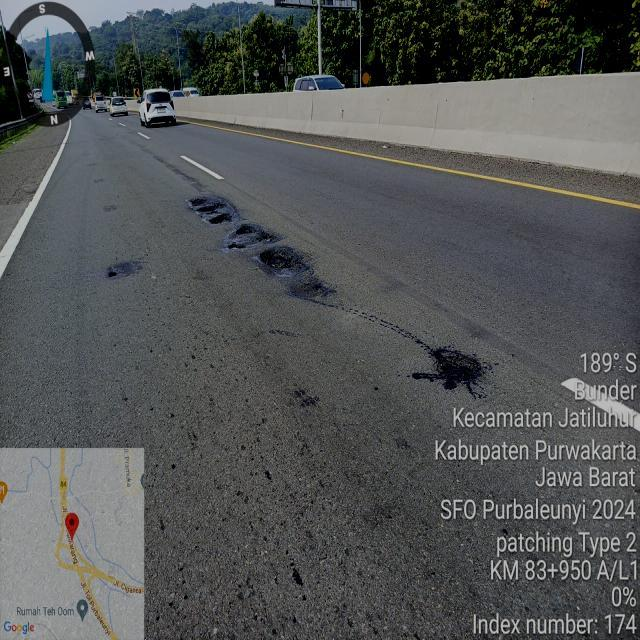Buraco: (429, 347, 485, 385), (257, 244, 311, 280), (286, 276, 340, 300), (233, 222, 283, 245), (194, 201, 228, 216), (207, 212, 234, 225), (103, 266, 122, 280), (186, 197, 208, 208), (226, 241, 247, 251)
